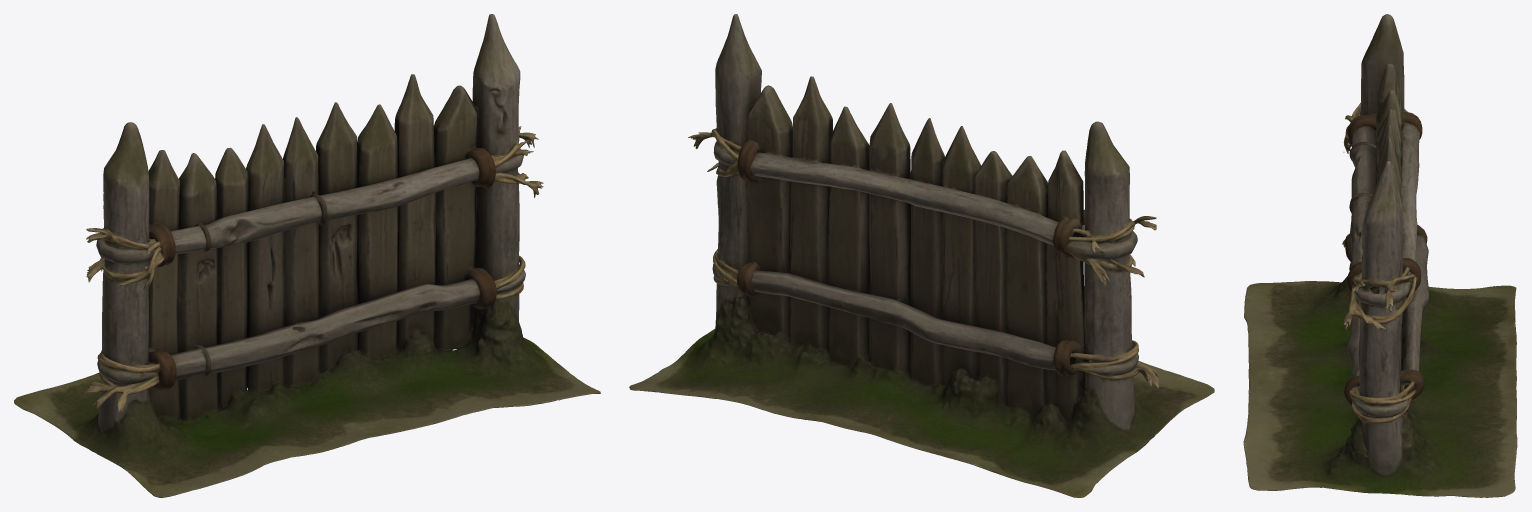
The model's file is goblin-palisade-a-v2.glb.
3 renders of one model, left to right at view 1: azimuth 30°, elevation 25°; view 2: azimuth 150°, elevation 25°; view 3: azimuth 270°, elevation 25°, orthographic. The views are drawn at different scales.
Parts seen in each view (by area): view 1: world; view 2: world; view 3: world.
Boxes of the visible parts, box(x1,y1,x2,y2) form: world: box(14, 14, 600, 497); world: box(629, 14, 1214, 497); world: box(1243, 14, 1517, 497).
Size of the model in its own units: 0.9977 by 0.7077 by 0.5525.
Materials: 1 (1 with a texture image).
